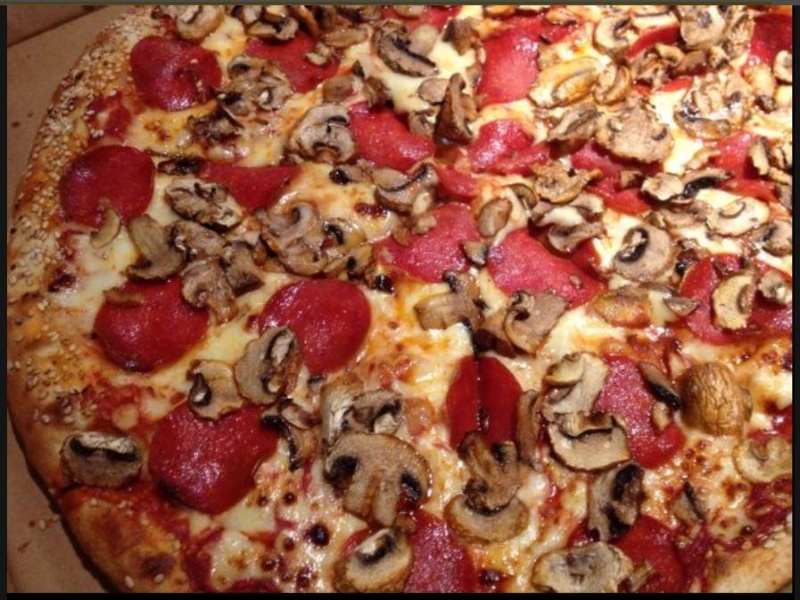champignon: (317, 430, 433, 528), (402, 266, 502, 338), (52, 422, 154, 492), (446, 484, 543, 551), (111, 211, 197, 285), (334, 530, 430, 594), (179, 358, 255, 428), (614, 224, 681, 287)
